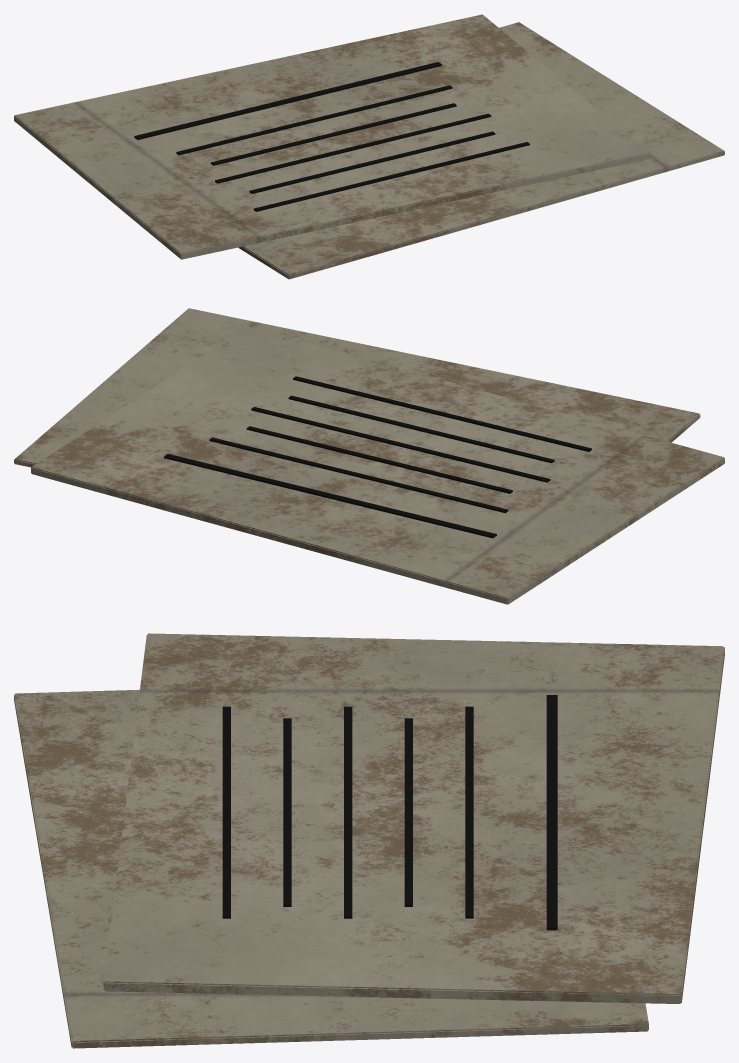
The model's file is document_sheet.gltf.
3 renders of one model, top to bottom at view 1: azimuth 30°, elevation 25°; view 2: azimuth 150°, elevation 25°; view 3: azimuth 270°, elevation 25°, orthographic. The views are drawn at different scales.
Visible parts, largest first — view 1: Body; view 2: Body; view 3: Body.
Part boxes in pixels (<box>): Body: <box>14,14,724,279</box>; Body: <box>14,308,724,604</box>; Body: <box>14,633,724,1048</box>.
Bounding box in the file's own units: 0.3422 × 0.00795 × 0.2579.
2 materials, 2 textured.
